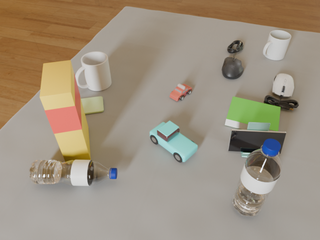book: (225, 97, 280, 131)
bottle: (232, 139, 282, 217), (29, 159, 117, 186)
box: (40, 60, 91, 161)
cup: (75, 52, 111, 91), (263, 30, 291, 60)
mouse: (272, 74, 294, 99), (222, 57, 244, 79)
phone: (228, 129, 286, 154), (81, 97, 104, 114)
toy_car: (150, 121, 198, 162), (170, 84, 192, 101)
